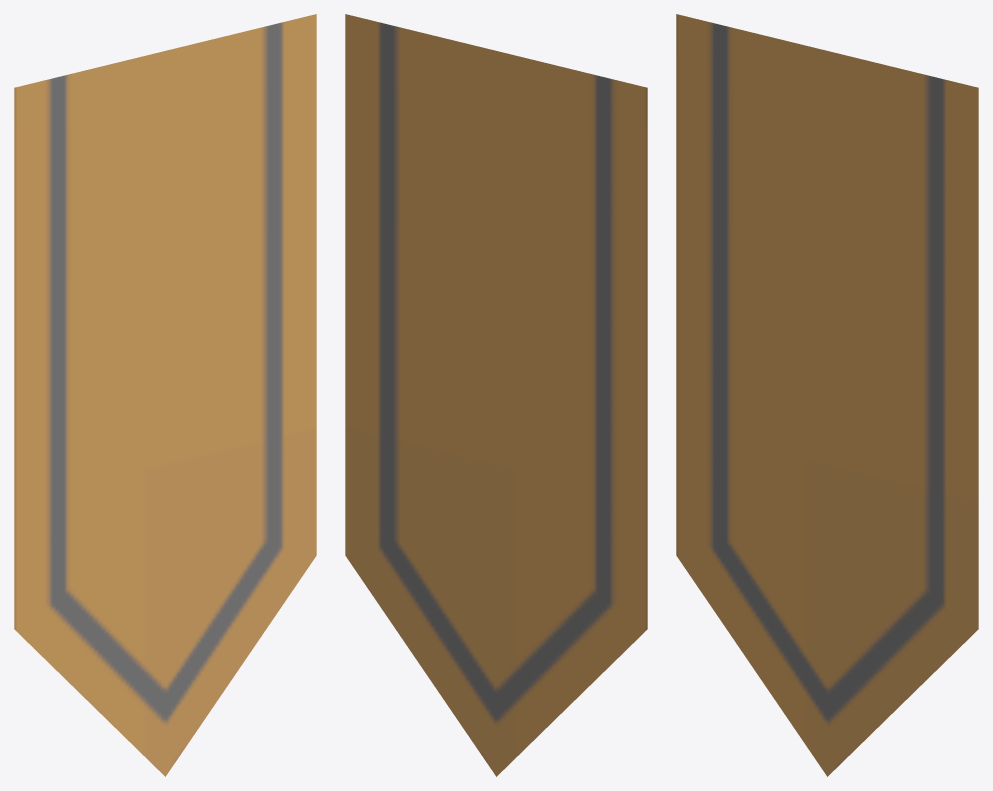
The model's file is Flag02_01.fbx.
3 views of the same model, side by side, from view 1: azimuth 30°, elevation 25°; view 2: azimuth 150°, elevation 25°; view 3: azimuth 330°, elevation 25° (orthographic).
Visible parts, largest first — view 1: Plane016; view 2: Plane016; view 3: Plane016.
Boxes of the visible parts, x1=… form: Plane016: x1=14, y1=14, x2=316, y2=776; Plane016: x1=345, y1=14, x2=647, y2=776; Plane016: x1=676, y1=14, x2=978, y2=776.
Bounding box in the file's own units: 91.79 × 211 × 0.000101.
